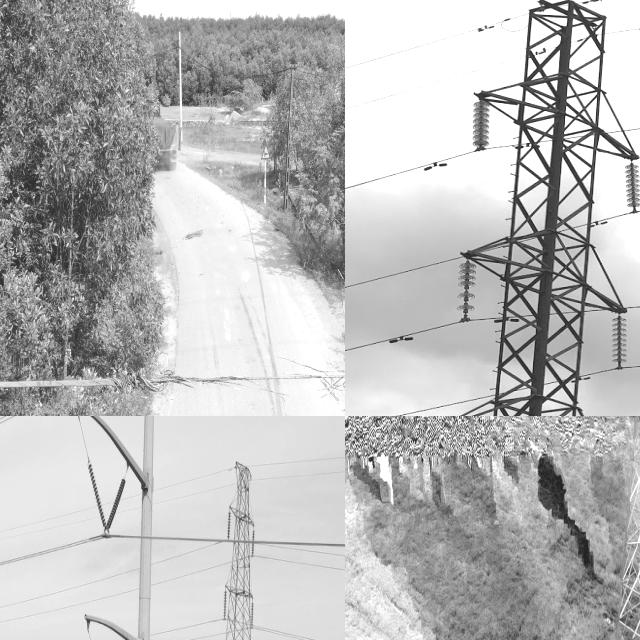杆塔: (430, 0, 640, 416), (215, 455, 258, 640)
正常绝缘子: (98, 464, 133, 549), (83, 450, 113, 543), (467, 92, 497, 154), (454, 252, 478, 324), (617, 155, 640, 214), (611, 307, 629, 371), (248, 593, 256, 636), (222, 586, 229, 627), (251, 528, 258, 564), (226, 508, 232, 544)
电缆破损: (104, 262, 345, 412)
绝缘子破损: (463, 298, 469, 304), (464, 286, 469, 291)
